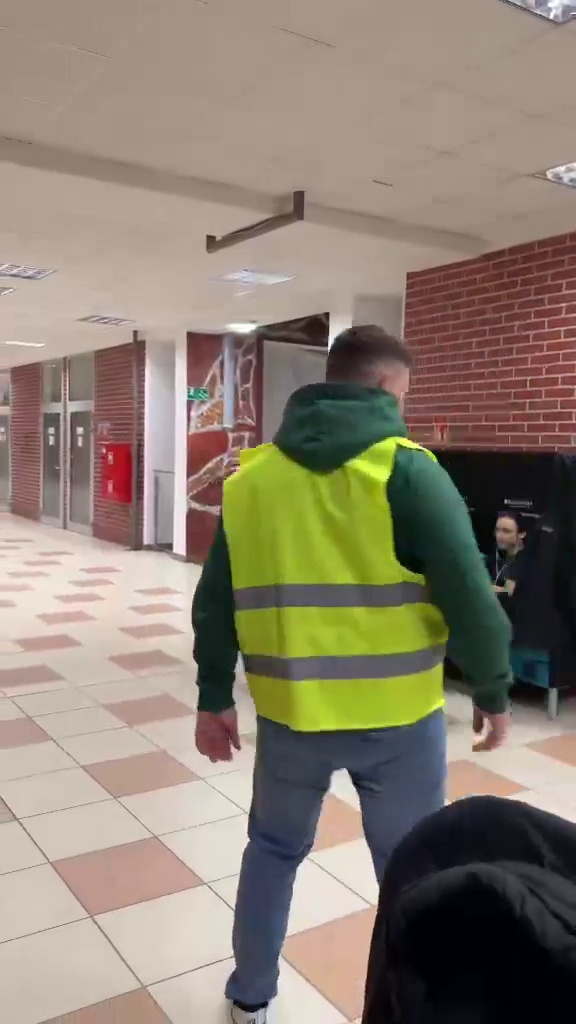vest: (202, 320, 509, 1003)
